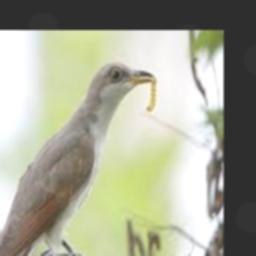Cuckoo: (0, 62, 154, 256)
